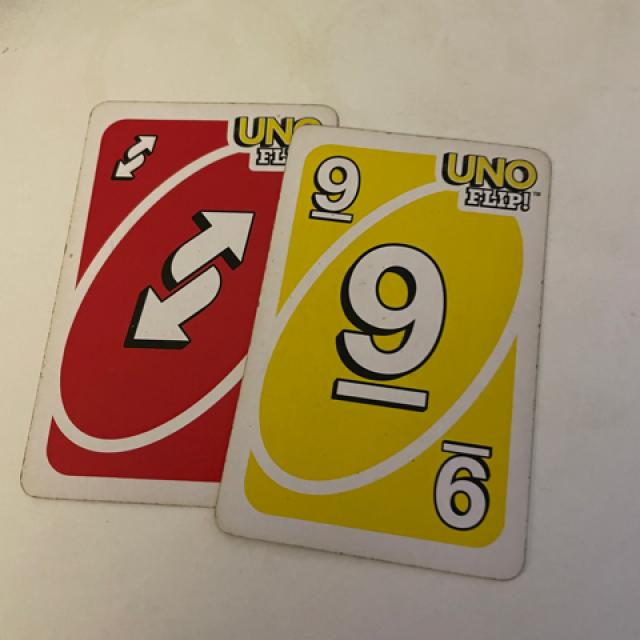lredrevers-20: (99, 115, 170, 197)
lyellow-9: (300, 141, 367, 232)
